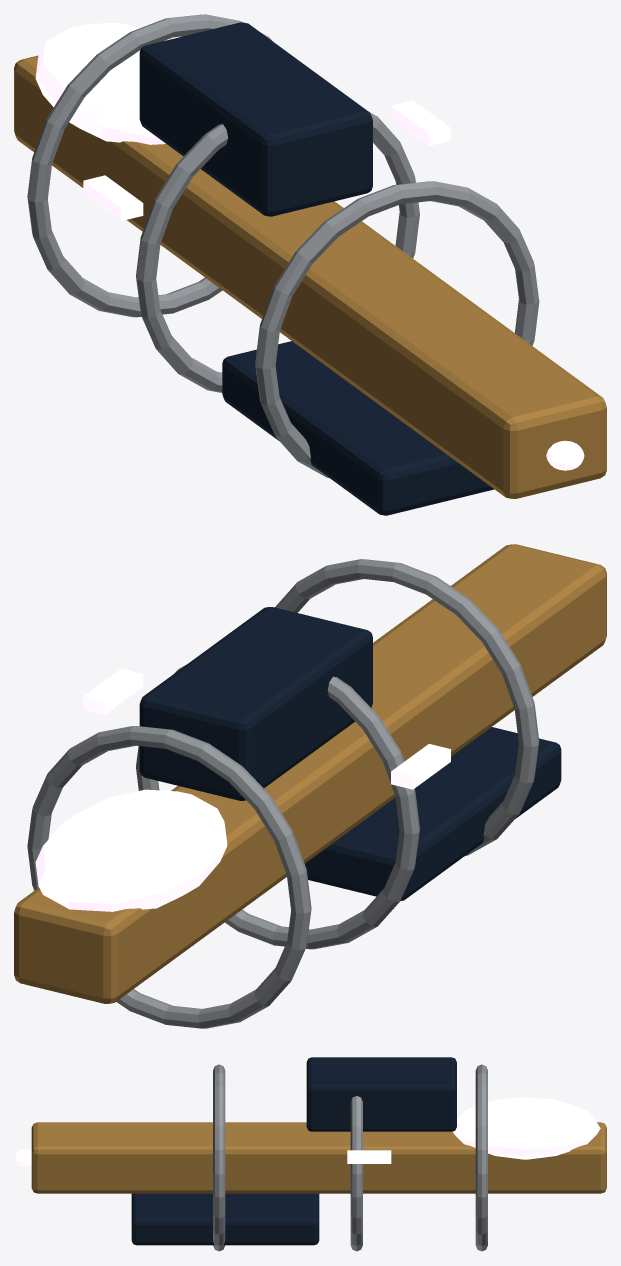
3 views of the same model, one above another, from view 1: azimuth 30°, elevation 25°; view 2: azimuth 150°, elevation 25°; view 3: azimuth 270°, elevation 25° (orthographic). The views are drawn at different scales.
Visible parts, largest first — view 1: RIMWARD_HULL, RIMWARD_EMISSIVE, RIMWARD_ENGINE_GLOW; view 2: RIMWARD_HULL, RIMWARD_EMISSIVE; view 3: RIMWARD_HULL, RIMWARD_EMISSIVE.
Part boxes in pixels (box(x1,y1,x2,y2)): RIMWARD_HULL: box(14, 14, 606, 515); RIMWARD_EMISSIVE: box(35, 22, 450, 220); RIMWARD_ENGINE_GLOW: box(546, 440, 584, 470); RIMWARD_HULL: box(14, 544, 606, 1028); RIMWARD_EMISSIVE: box(35, 668, 450, 911); RIMWARD_HULL: box(31, 1057, 606, 1251); RIMWARD_EMISSIVE: box(347, 1097, 600, 1163).
Bounding box in the file's own units: 11.23 × 9.72 × 30.34.
